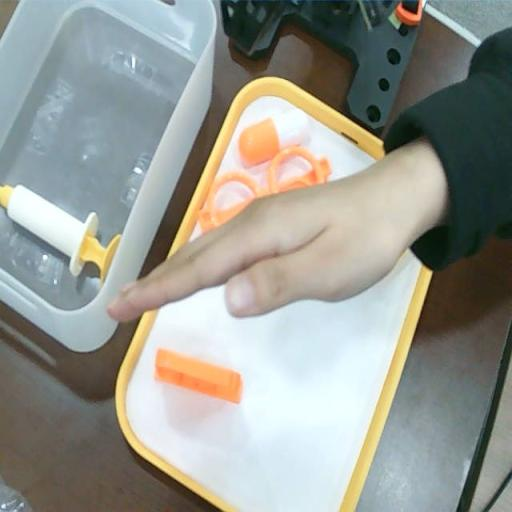hospital: (100, 130, 425, 352)
